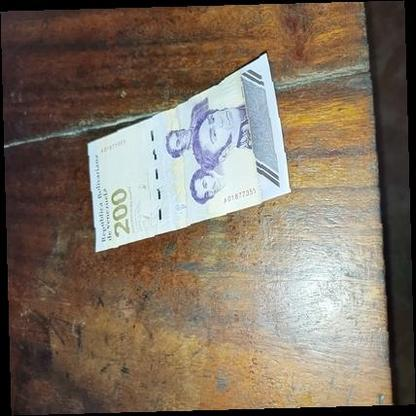two_hundred-front-vef: (87, 52, 292, 253)
